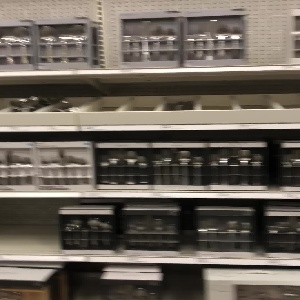void: (1, 199, 58, 258)
